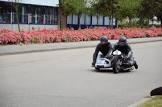Vehicle: (91, 49, 141, 73)
